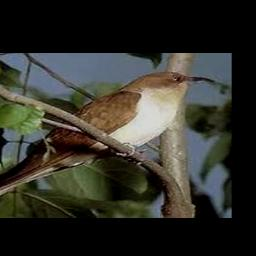Cuckoo: (0, 72, 216, 206)
